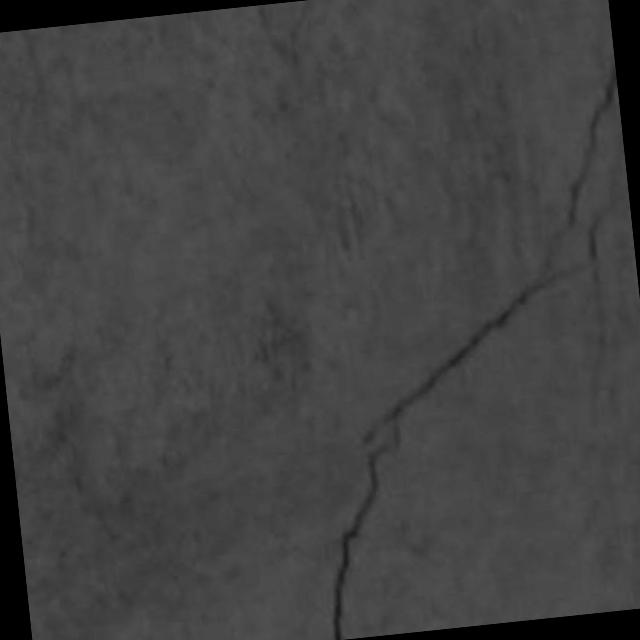crack: (332, 62, 617, 639), (332, 266, 585, 639), (566, 62, 617, 228), (256, 0, 314, 67)
